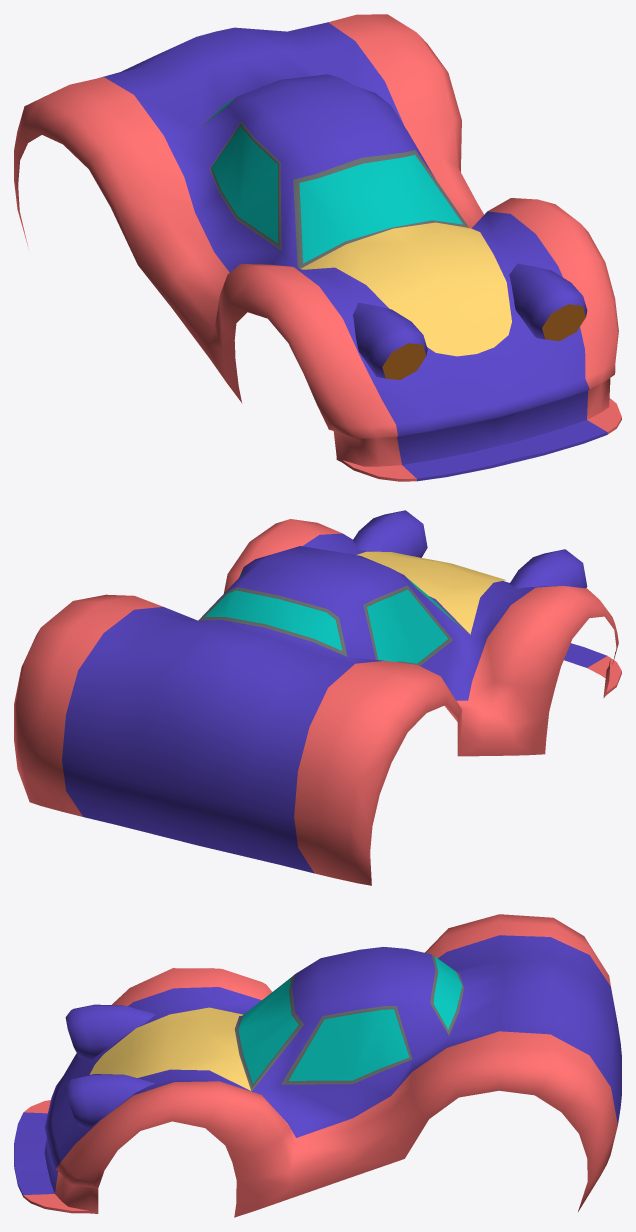
Rendered from LuxCasing02R02.gltf.
The picture shows the model from 3 angles, top to bottom: view 1: azimuth 30°, elevation 25°; view 2: azimuth 150°, elevation 25°; view 3: azimuth 270°, elevation 25°; orthographic projection. The views are drawn at different scales.
Parts seen in each view (by area): view 1: LuxCasing02R02; view 2: LuxCasing02R02; view 3: LuxCasing02R02.
Boxes of the visible parts, left/top/right/bottom form: LuxCasing02R02: left=14, top=14, right=621, bottom=481; LuxCasing02R02: left=14, top=510, right=621, bottom=885; LuxCasing02R02: left=14, top=914, right=621, bottom=1217.
Size of the model in its own units: 0.2179 by 0.1224 by 0.3506.
